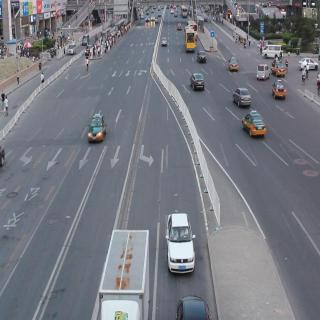BigCar: (100, 224, 152, 315)
Car: (165, 203, 192, 278), (86, 103, 112, 154), (172, 290, 212, 320), (235, 109, 273, 139), (297, 53, 320, 81), (253, 54, 273, 86), (188, 66, 207, 98), (223, 49, 242, 72), (270, 81, 288, 102), (274, 56, 291, 78), (230, 88, 252, 104), (192, 48, 207, 64), (185, 31, 196, 49), (161, 36, 168, 52)
